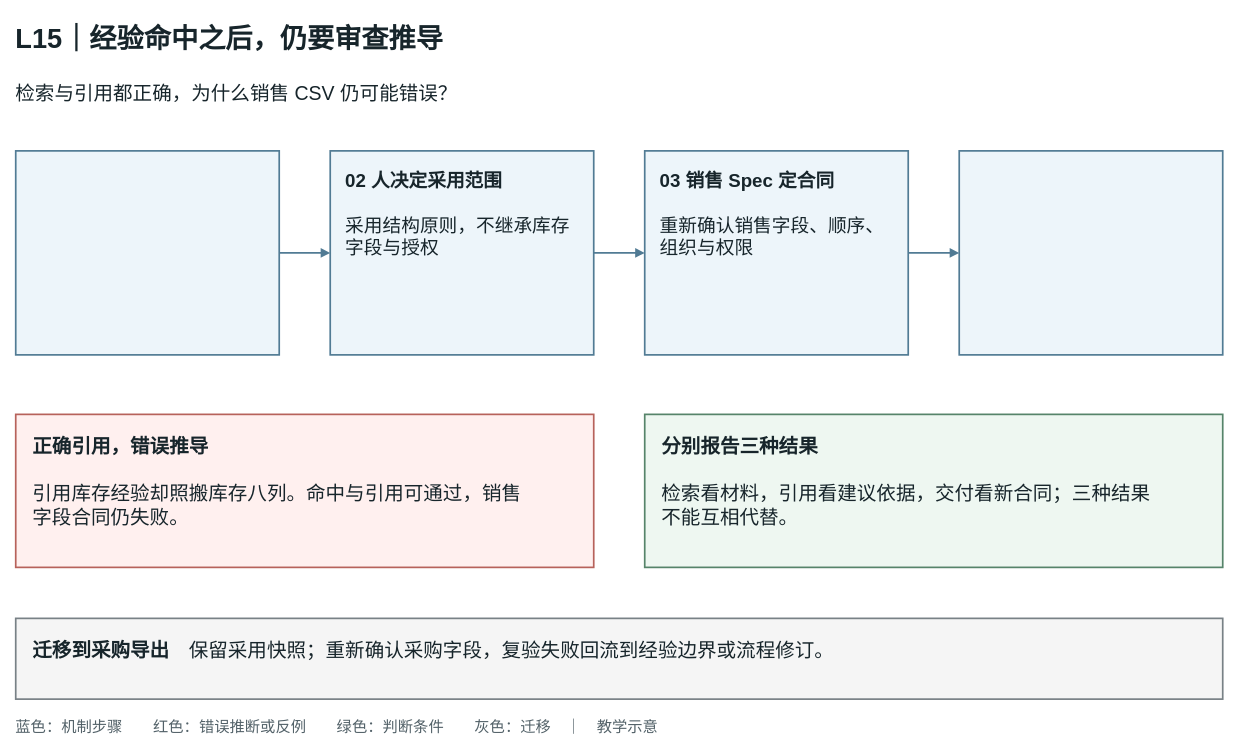
The diagram is 1238 pixels wide and 756 high, and some of its shapes have lost their labels. The shapes that lost their labels are listed below. From the top down, each one's box as (x1, y1, x2, y2) in pixels, then its label:
(14, 150, 280, 355): 01 库存经验有来源 合法空 CSV 保留已确认列 名
(958, 150, 1223, 355): 04 新候选重新验证 检查字段、权限拒绝及业务 状态不变
